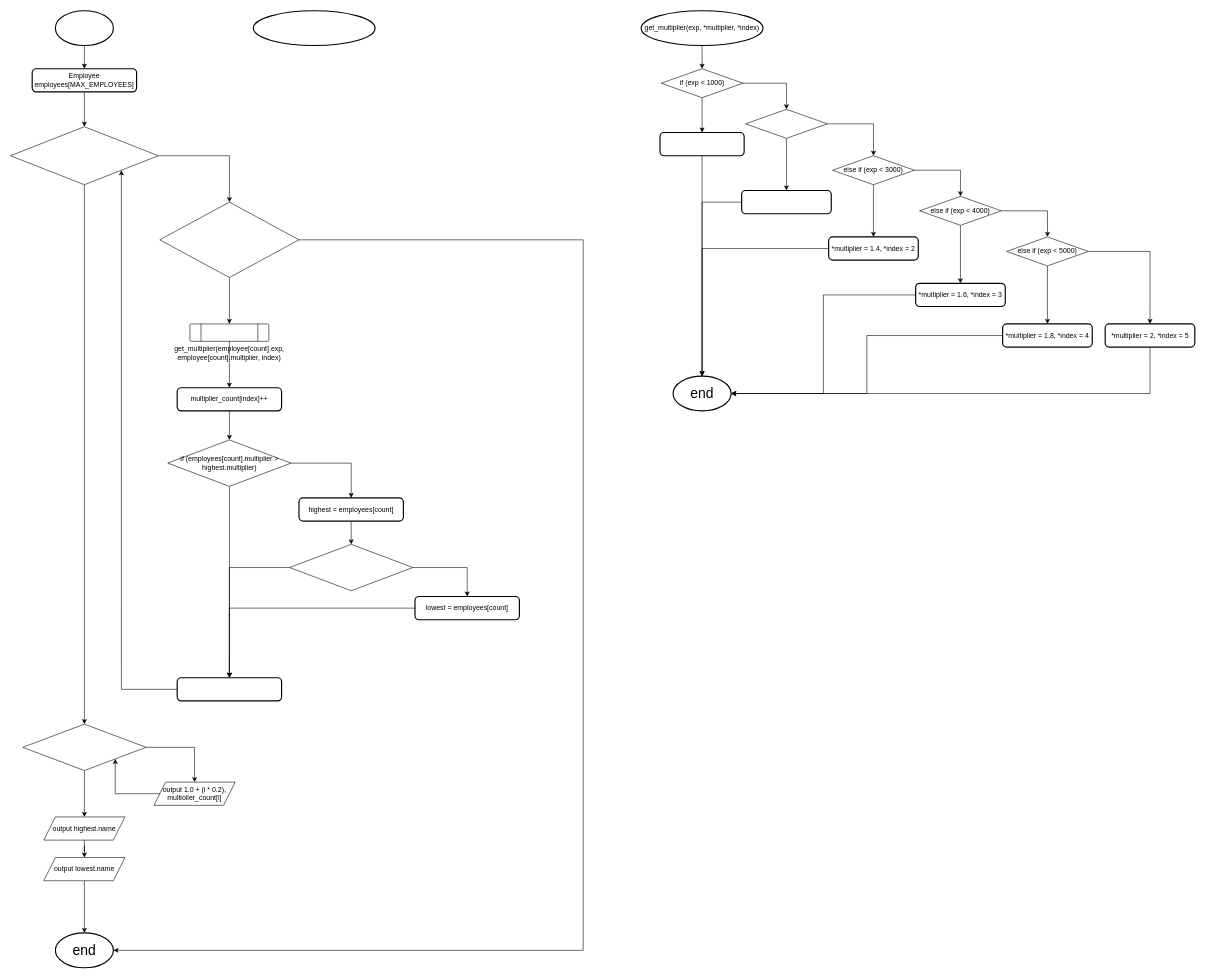
The diagram is 1205 pixels wide and 978 high, and some of its shapes have lost their labels. Here are the shapes that lost their labels. From the top down, the centre of each, then its label:
point (84, 28): start
point (313, 28): Employee = {name, exp, multiplier}
point (786, 123): else if (exp < 2000)
point (84, 155): while (count < Max_EMPLOYEES && scanf(name) == 1
point (701, 144): *multiplier = 1, *index = 0
point (786, 202): *multiplier = 1.2, *index = 1
point (229, 240): if (scanf("%d", &employees[count].exp) != 1)
point (351, 567): if (employees[count].multiplier < lowest.multiplier)
point (229, 689): count++
point (84, 747): for (i < MULTIPLIER_LEVELS, i++)
